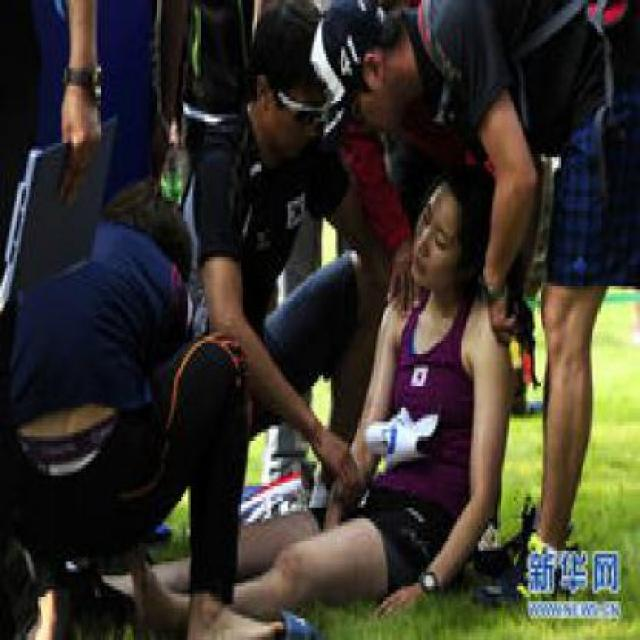fall: (183, 140, 519, 632)
